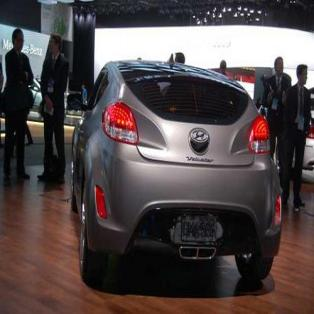Auto: (69, 54, 283, 294)
